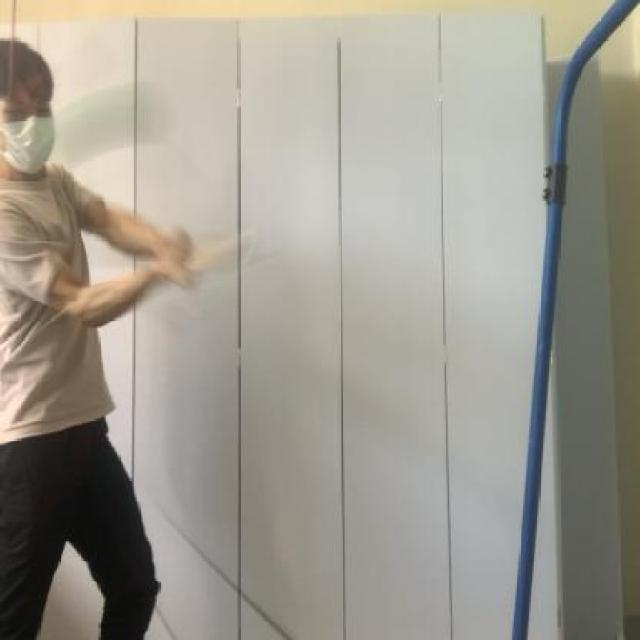baseball: (8, 56, 186, 176)
